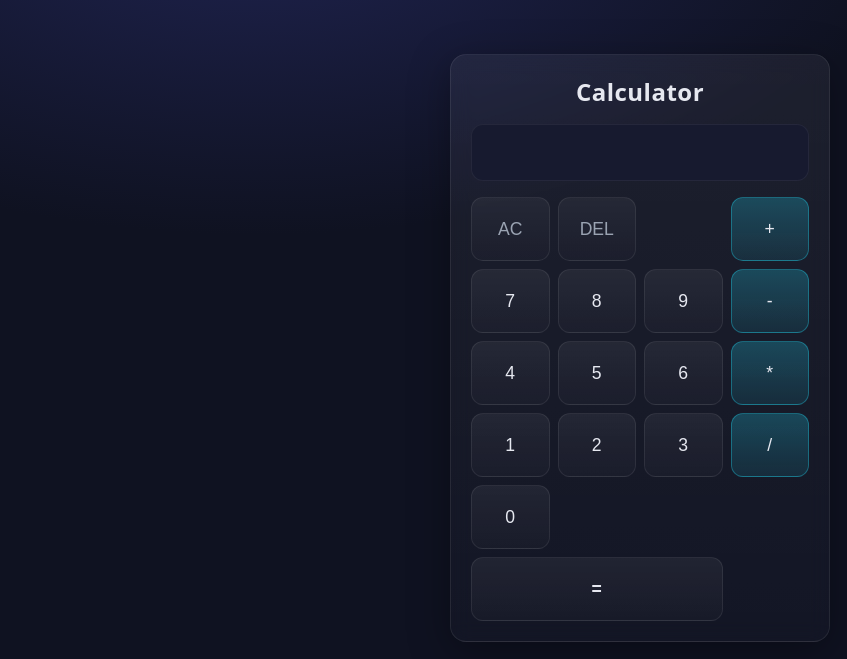
Test: calculator › should user input after clicking a several numbers
Click the button named "digit 1".
click(510, 445)  # box [471,413,550,477]
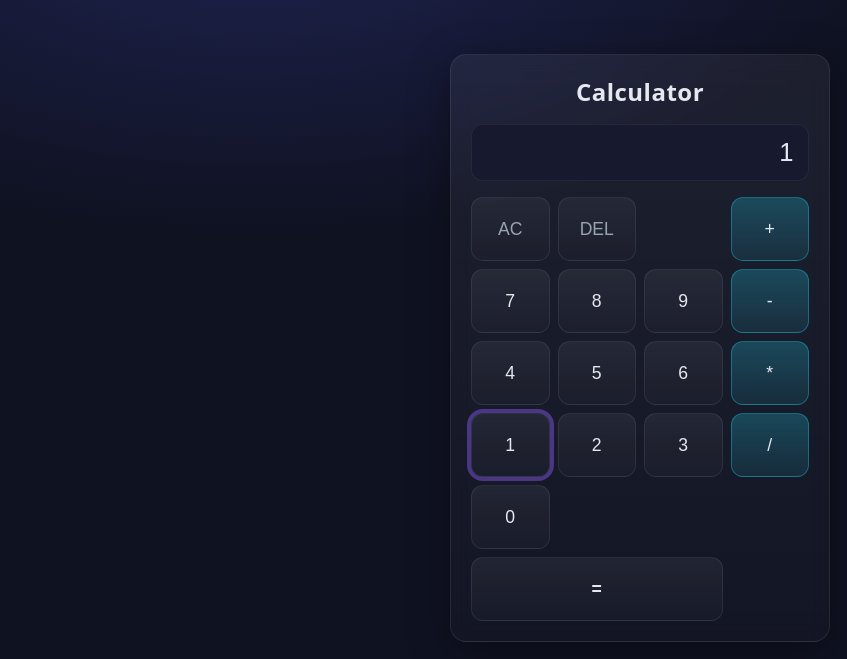
Click the button named "digit 2".
click(597, 445)  # box [558,413,636,477]
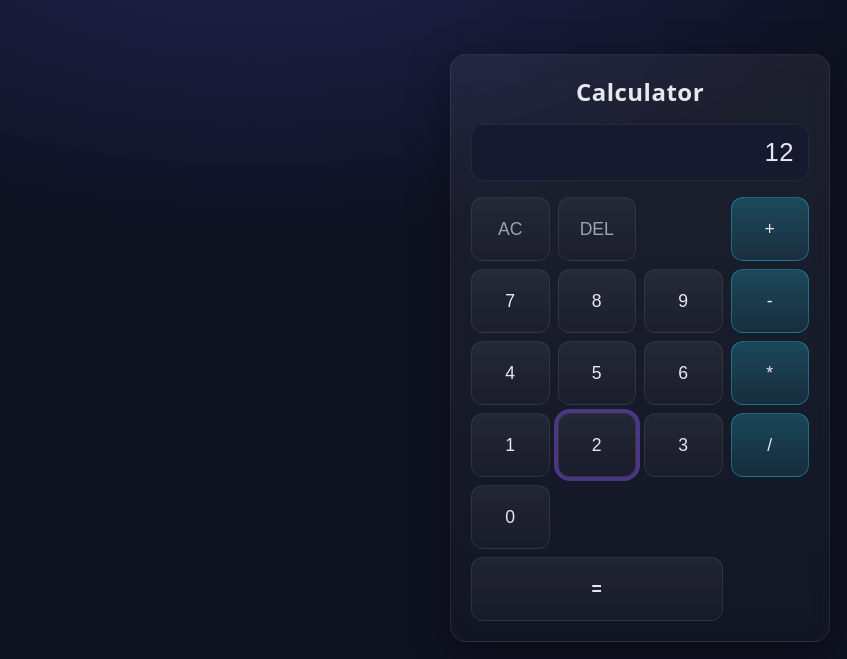
Click the button named "digit 3".
click(683, 445)  # box [644,413,722,477]
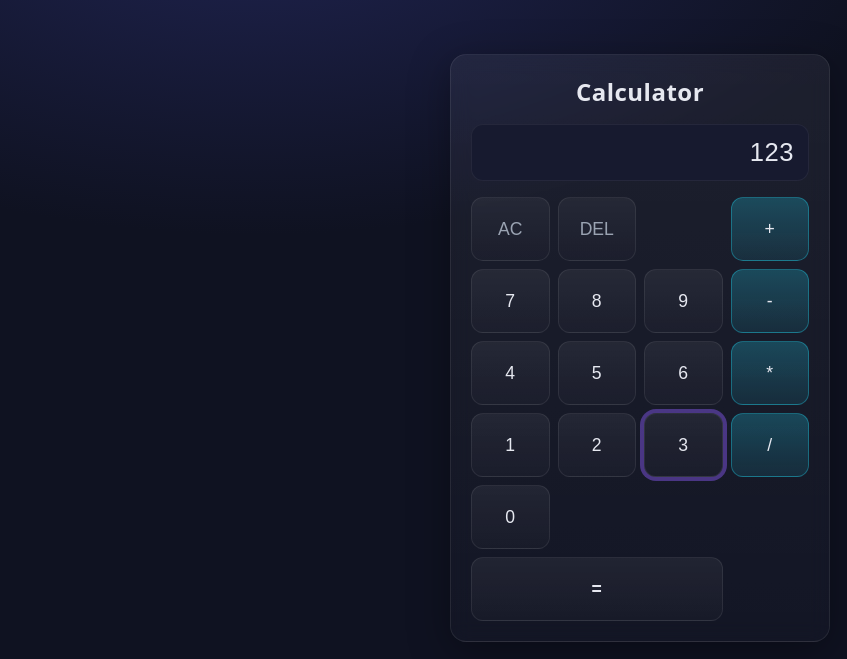
Result: the field holds "123" at [484,137,796,168]
